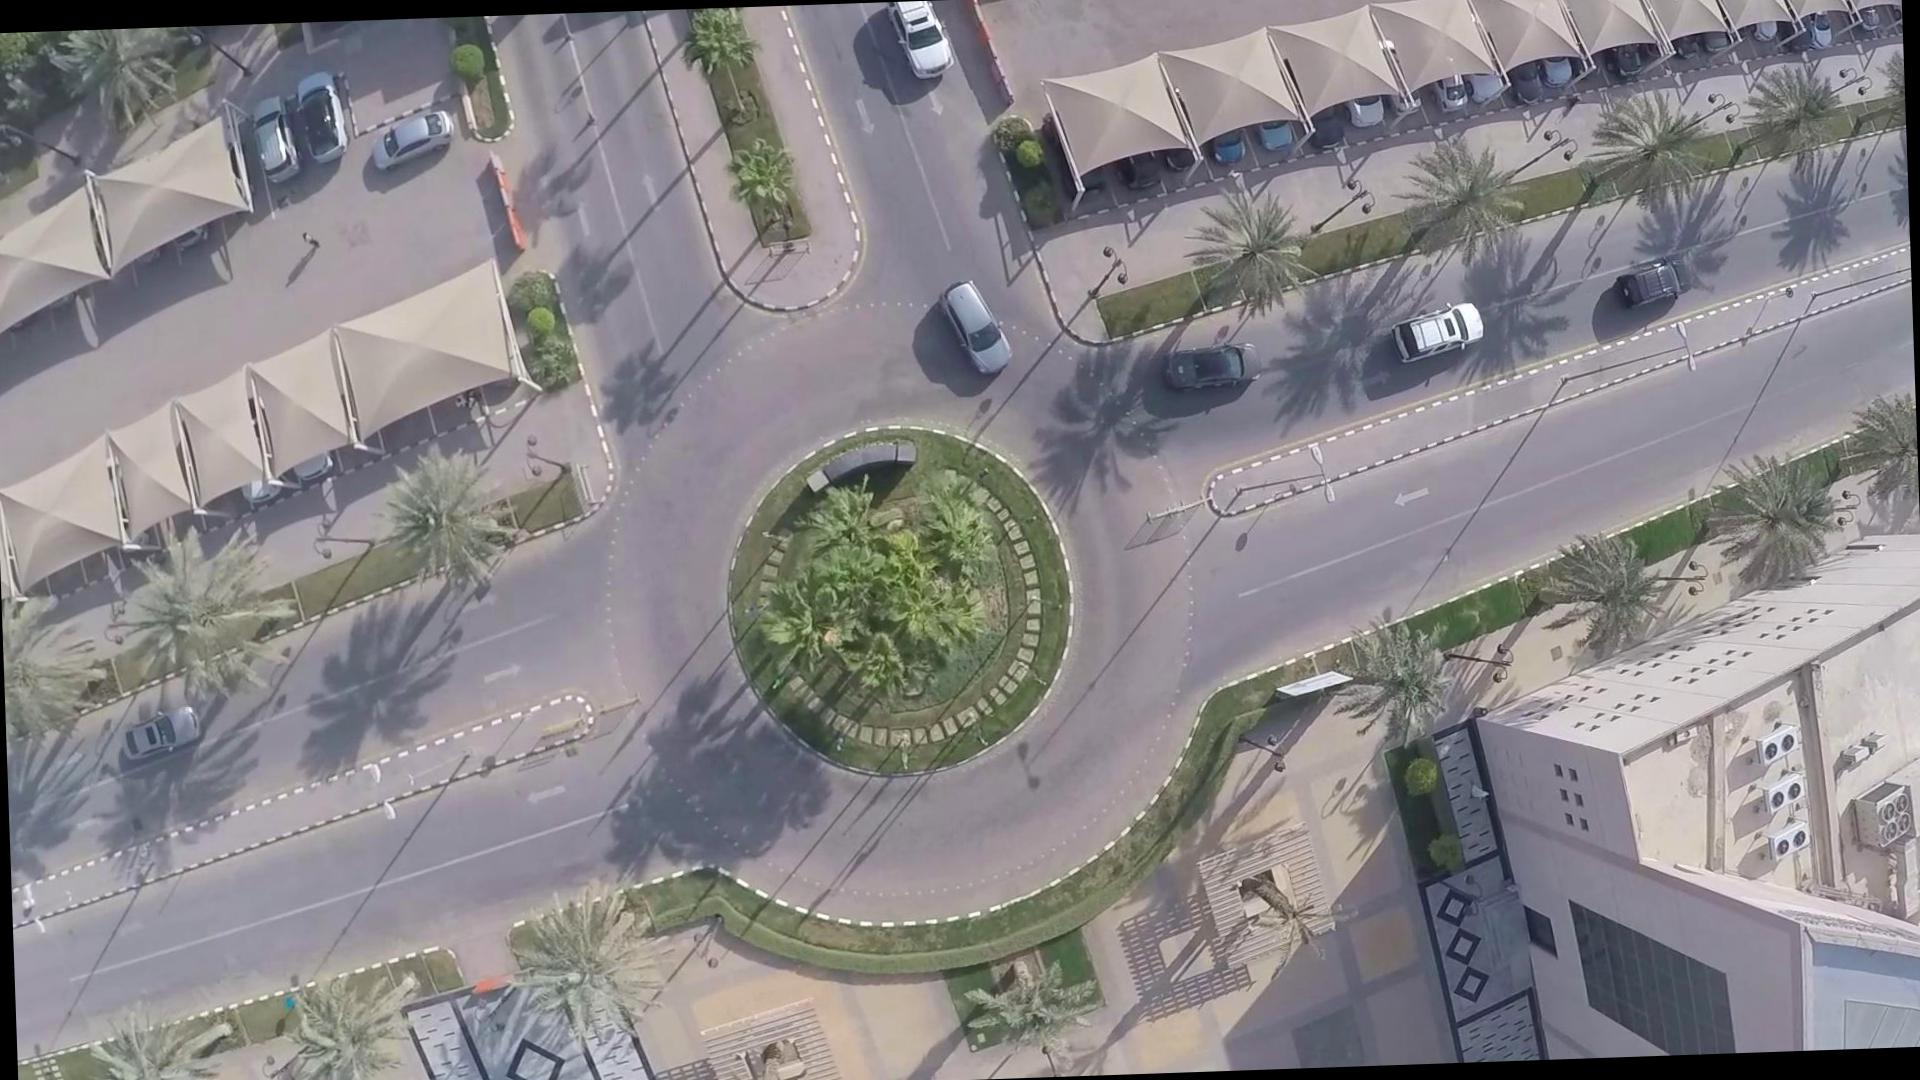vehicle: (1146, 338, 1269, 417), (932, 281, 1018, 377), (1387, 299, 1509, 363), (1606, 247, 1704, 309)
